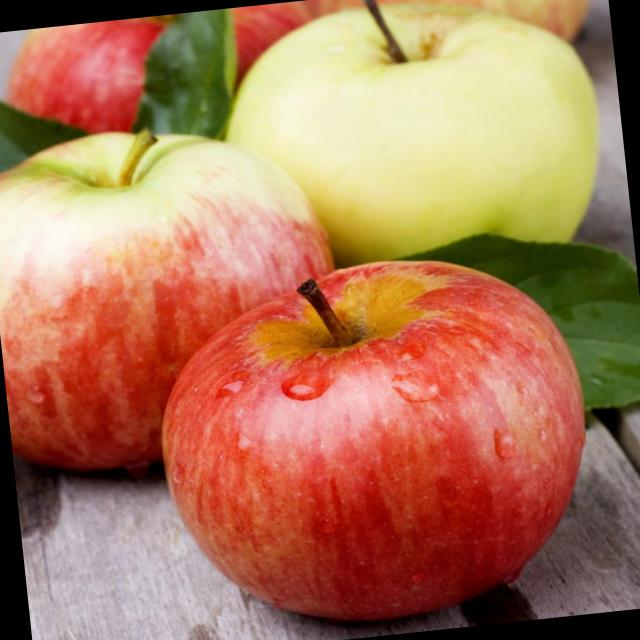apple: (142, 236, 609, 640), (0, 104, 342, 510)
